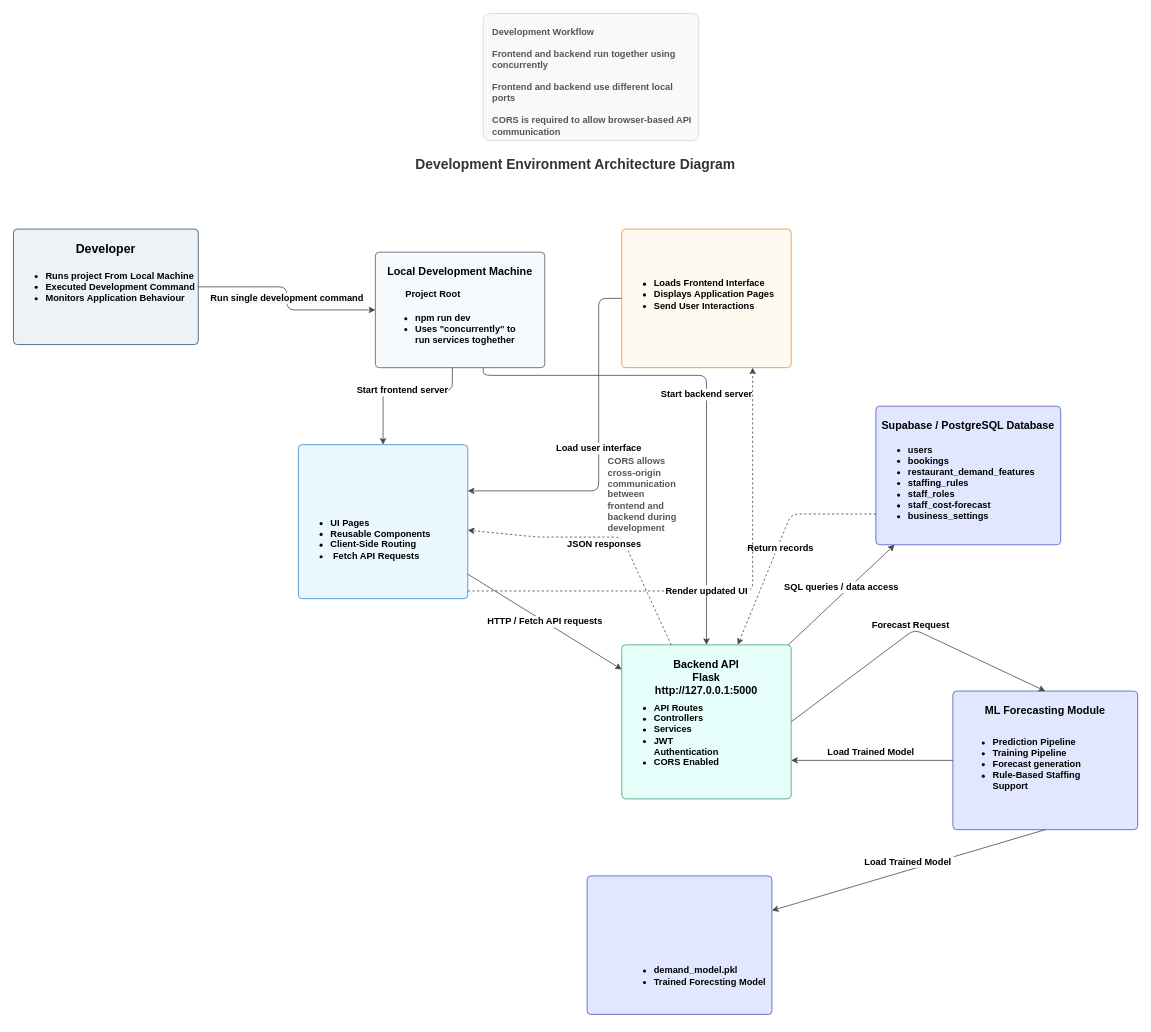
Image size: 1151x1032. Some labels were removed from this diagram. The shapes that lost their labels are listed below. From the top down, each one's box as (x1, y1, x2, y2) in pixels, then its label:
(621, 228, 791, 368): Browser
(298, 444, 468, 599): Frontend Web Application Next.js / React http://localhost:3000
(586, 875, 772, 1014): Model Artifact Storage
